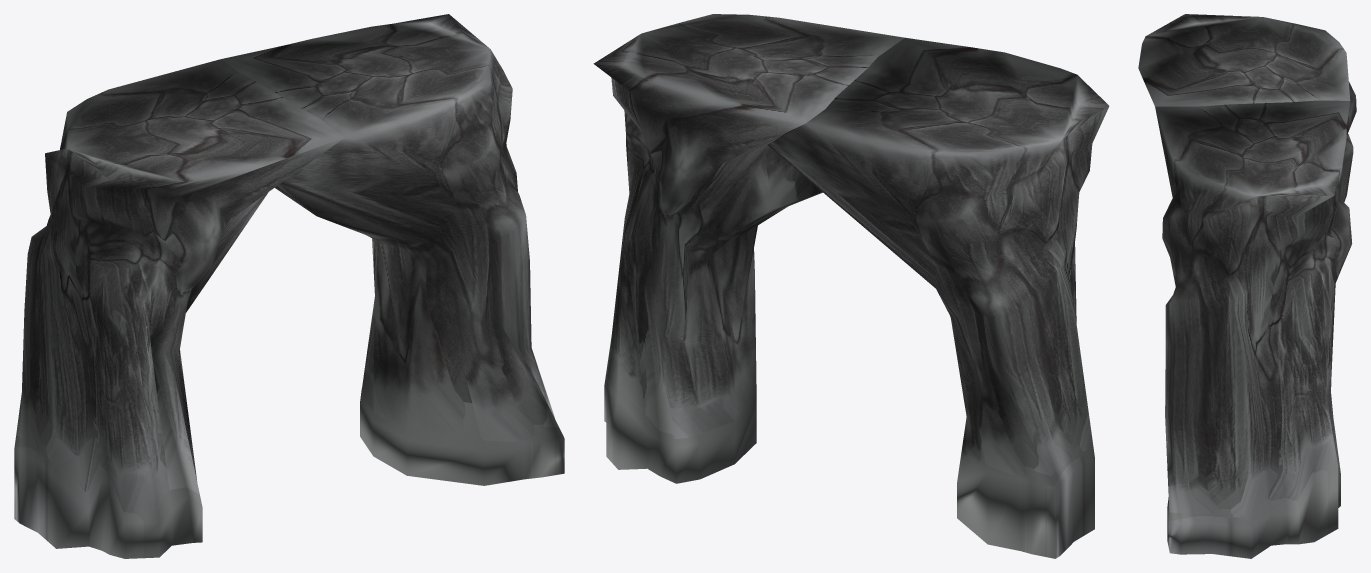
File: Rock3_003.fbx
3 views of the same model, side by side, from view 1: azimuth 30°, elevation 25°; view 2: azimuth 150°, elevation 25°; view 3: azimuth 270°, elevation 25° (orthographic). The views are drawn at different scales.
Parts seen in each view (by area): view 1: rock1.001; view 2: rock1.001; view 3: rock1.001.
Boxes of the visible parts, x1,y1,x2,y2 form: rock1.001: (14, 14, 564, 558); rock1.001: (593, 14, 1109, 558); rock1.001: (1138, 14, 1356, 558).
Size of the model in its own units: 1427 by 1130 by 639.
